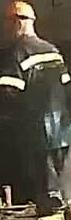helmet: (2, 0, 37, 22)
vest: (5, 37, 71, 149)
